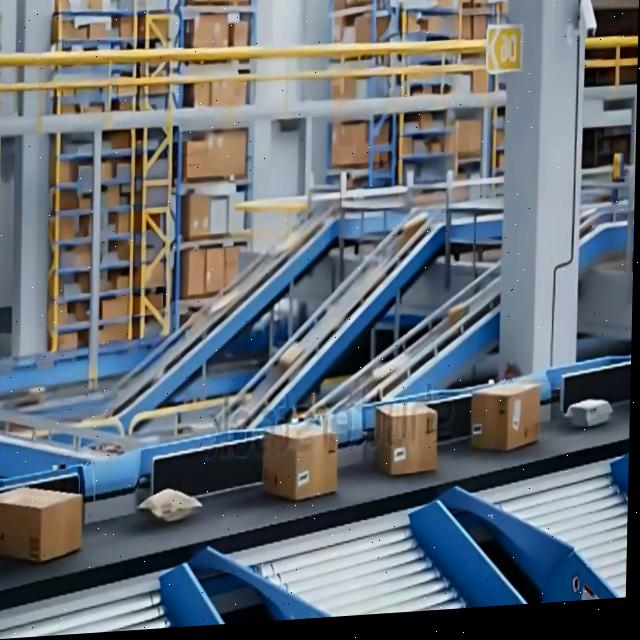product 1: (261, 416, 339, 503), (470, 378, 541, 454), (373, 399, 439, 477)
product 2: (158, 482, 202, 527)
